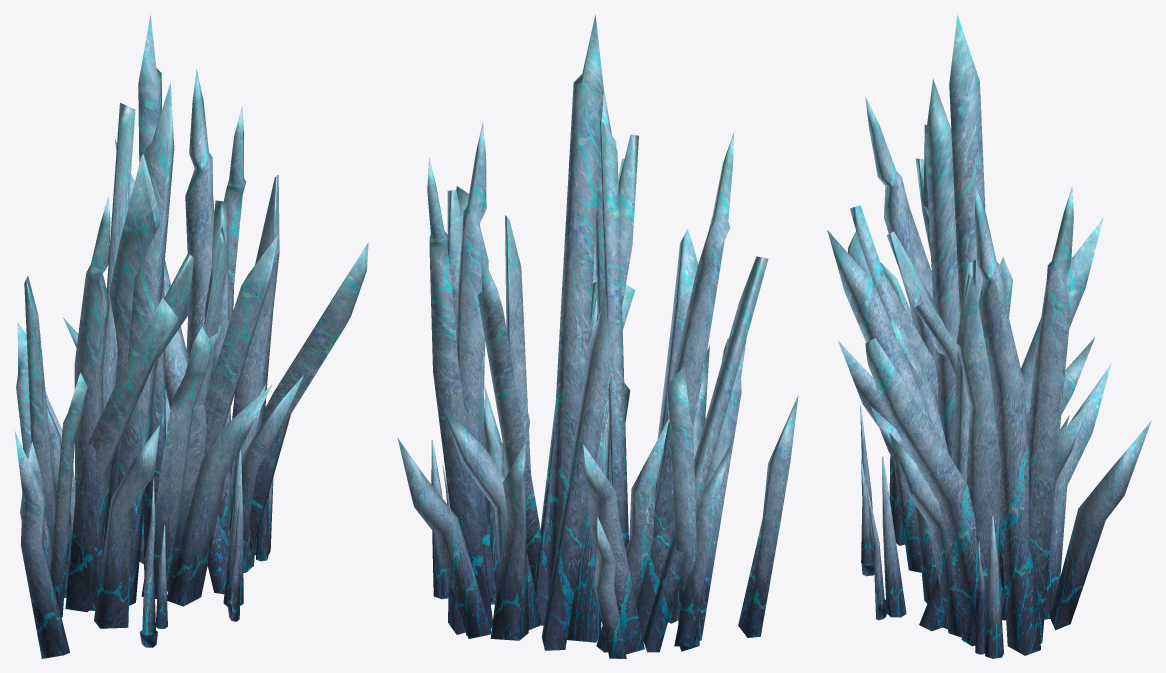
Rendered from ice_pillar_s00.fbx.
3 renders of one model, left to right at view 1: azimuth 30°, elevation 25°; view 2: azimuth 150°, elevation 25°; view 3: azimuth 270°, elevation 25°, orthographic. The views are drawn at different scales.
Visible parts, largest first — view 1: ice_pillar_s00; view 2: ice_pillar_s00; view 3: ice_pillar_s00.
Part boxes in pixels (x1,y1,x2,y2): ice_pillar_s00: (14, 15, 368, 658); ice_pillar_s00: (397, 14, 798, 658); ice_pillar_s00: (827, 14, 1151, 658).
Size of the model in its own units: 48.17 by 79.94 by 39.71.
